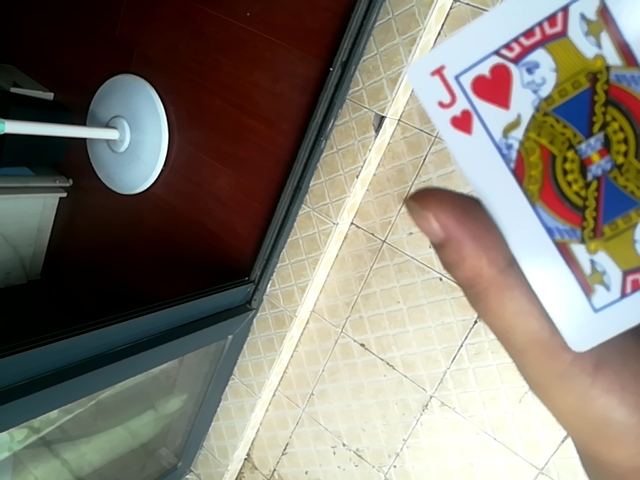hx j: (399, 0, 638, 358)
